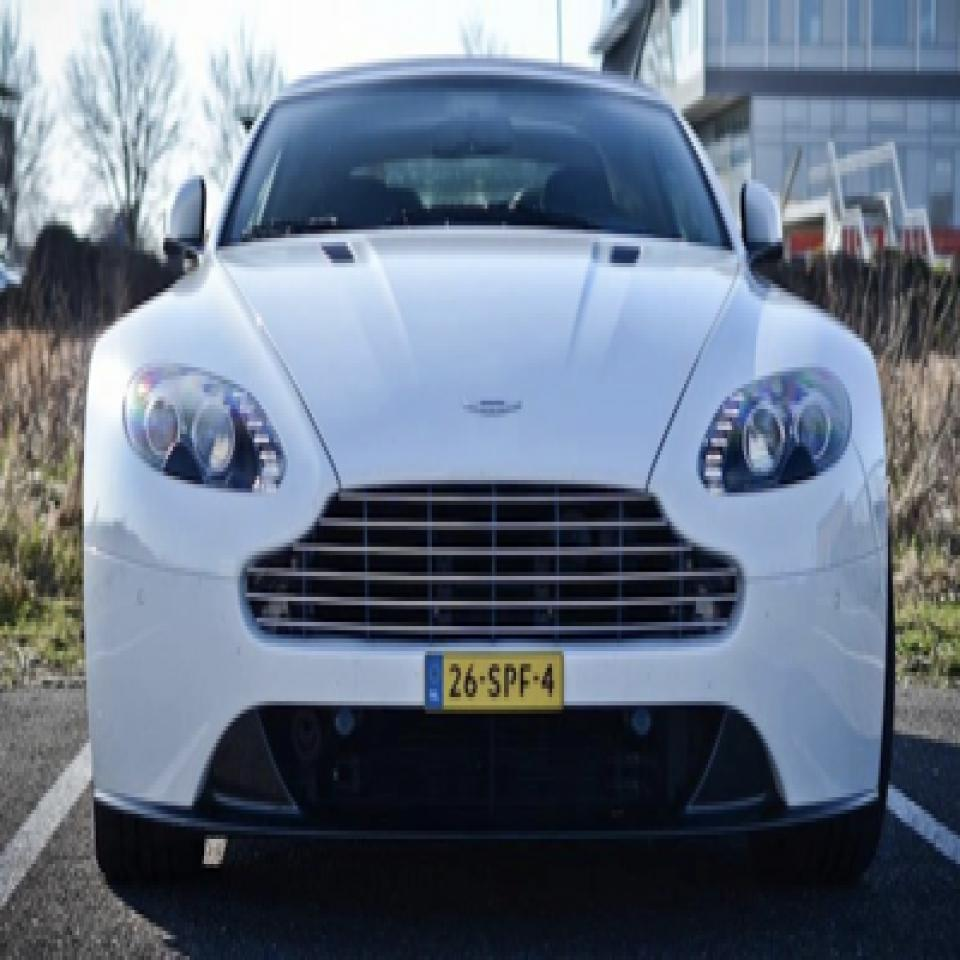licence: (418, 630, 578, 726)
